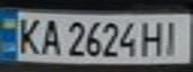2: (63, 18, 87, 57), (100, 18, 121, 58)
4: (118, 18, 142, 58)
6: (81, 18, 103, 58)
A: (36, 16, 63, 56)
H: (139, 18, 166, 57)
I: (157, 17, 187, 56)
K: (12, 15, 42, 55)
